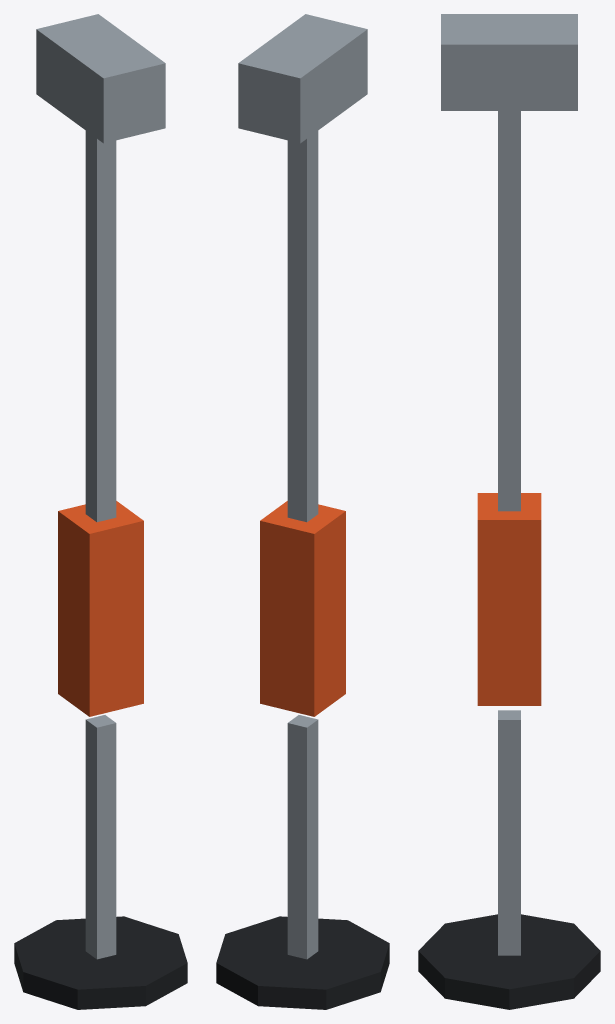
The model's file is platter.glb.
The picture shows the model from 3 angles, left to right: view 1: azimuth 30°, elevation 25°; view 2: azimuth 150°, elevation 25°; view 3: azimuth 270°, elevation 25°; orthographic projection.
Parts seen in each view (by area): view 1: platter; view 2: platter; view 3: platter.
Part boxes in pixels (x1,y1,x2,y2): platter: [14, 14, 187, 1009]; platter: [216, 14, 389, 1009]; platter: [418, 14, 600, 1009].
Bounding box in the file's own units: 0.4 × 2.28 × 0.4.
